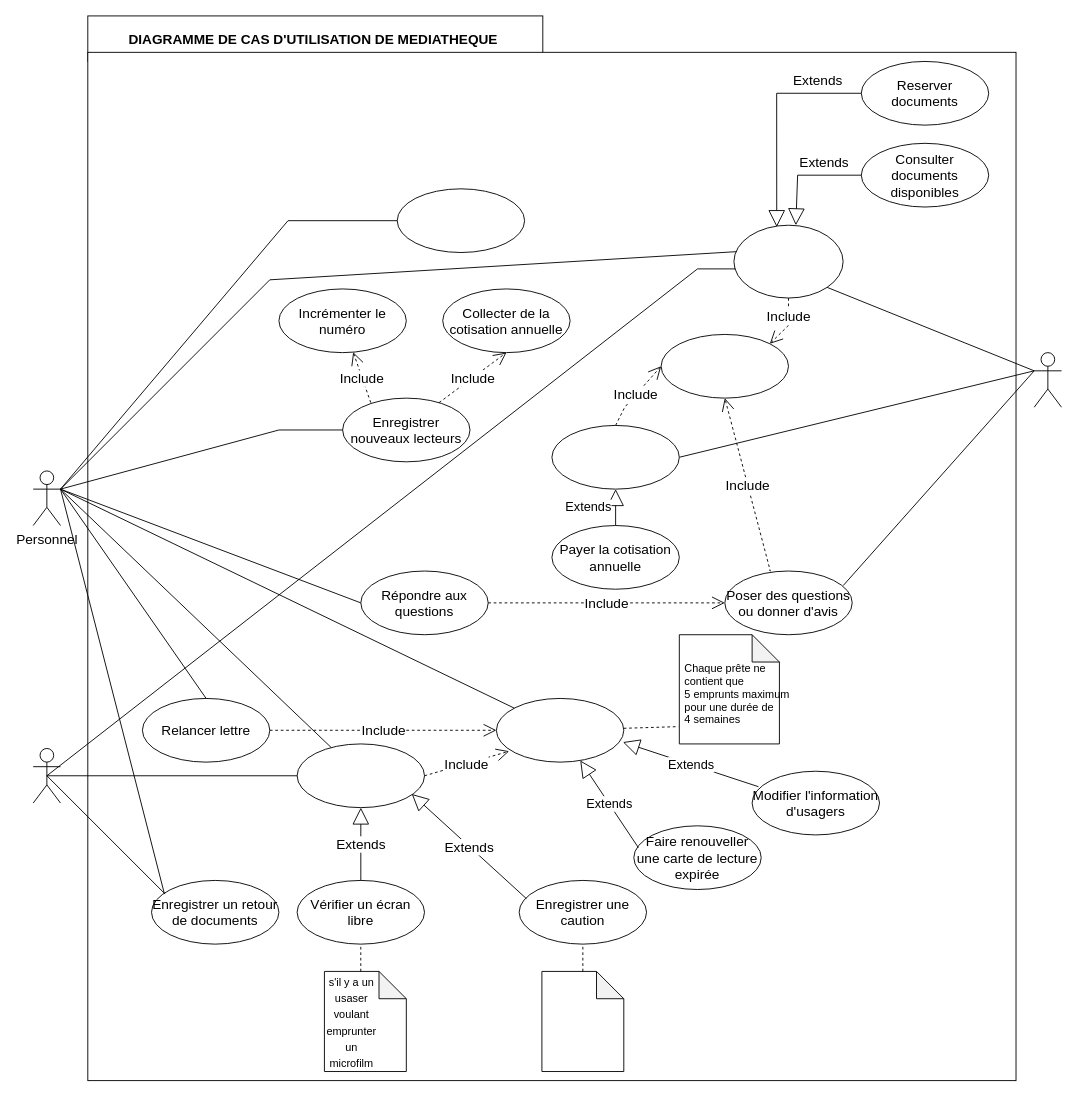
Some shapes in this 1086 by 1097 pixel diagram are drawn without their labels. The centre of each missing label's shape, as x and y in pixels:
"Bénévole" goes at pixel 46 775.
"Consulter la liste des documents" goes at pixel 788 261.
"Consulter les comptes de lecteur" goes at pixel 559 730.
"Consulter son compte de lecture" goes at pixel 615 457.
"Enregistrer nouveaux documents" goes at pixel 460 220.
"Enregistrer un emprunt" goes at pixel 360 775.
"Lecteur" goes at pixel 1047 379.
"s'il y a un usaser voulant emprunter un CD" goes at pixel 582 1021.
"Saisir le numéro de carte de lectute" goes at pixel 724 366.
